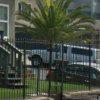Palm tree: (20, 3, 100, 92)
